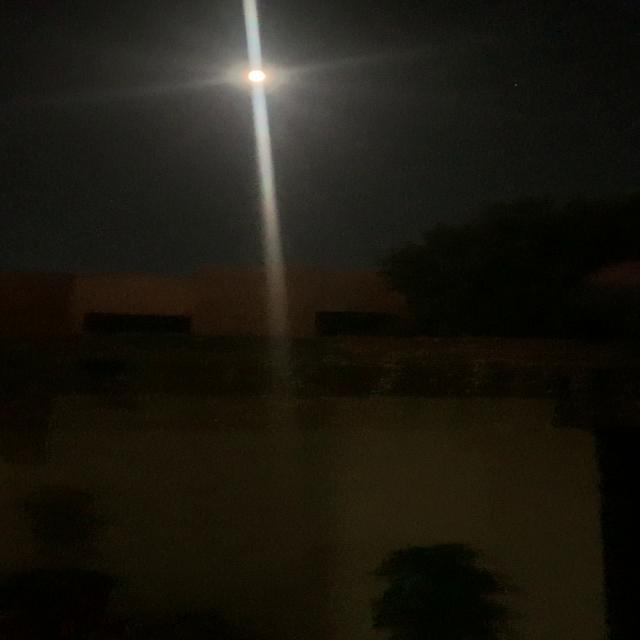moon: (222, 59, 284, 92)
